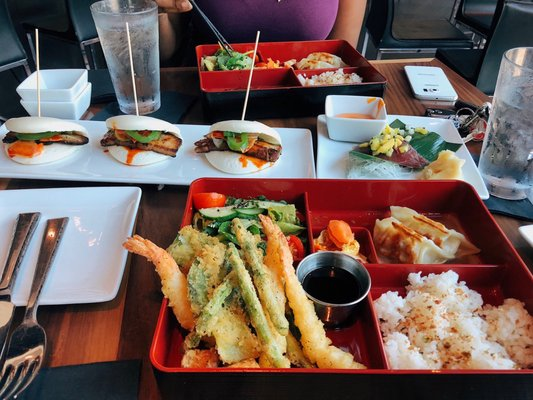burger: (0, 217, 65, 400)
pizza: (478, 46, 533, 201), (90, 0, 161, 116), (296, 251, 372, 327)
sandwich: (0, 218, 66, 399), (0, 212, 38, 293)
soup: (100, 115, 183, 164)
sushi: (196, 37, 389, 113), (296, 251, 372, 327), (323, 95, 388, 144)
